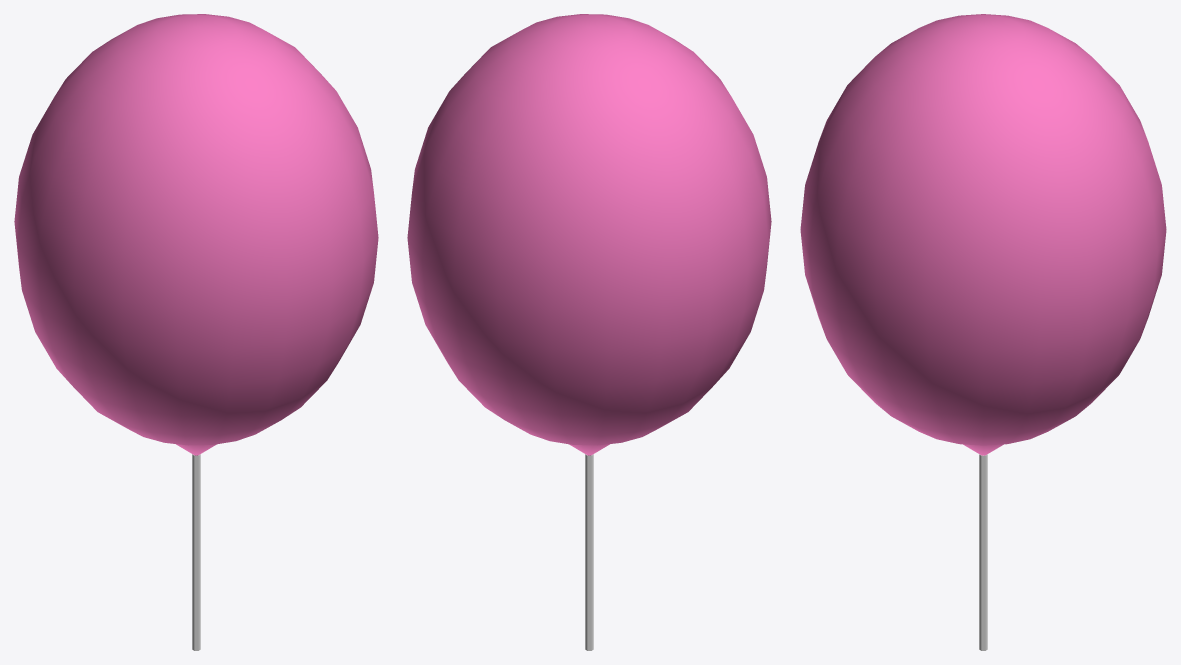
Rendered from balon.glb.
3 renders of one model, left to right at view 1: azimuth 30°, elevation 25°; view 2: azimuth 150°, elevation 25°; view 3: azimuth 270°, elevation 25°, orthographic.
Visible parts, largest first — view 1: Balon; view 2: Balon; view 3: Balon.
Boxes of the visible parts, x1,y1,x2,y2 form: Balon: (14, 14, 378, 650); Balon: (407, 14, 771, 650); Balon: (800, 14, 1166, 650).
Bounding box in the file's own units: 0.5067 × 0.95 × 0.5067.
